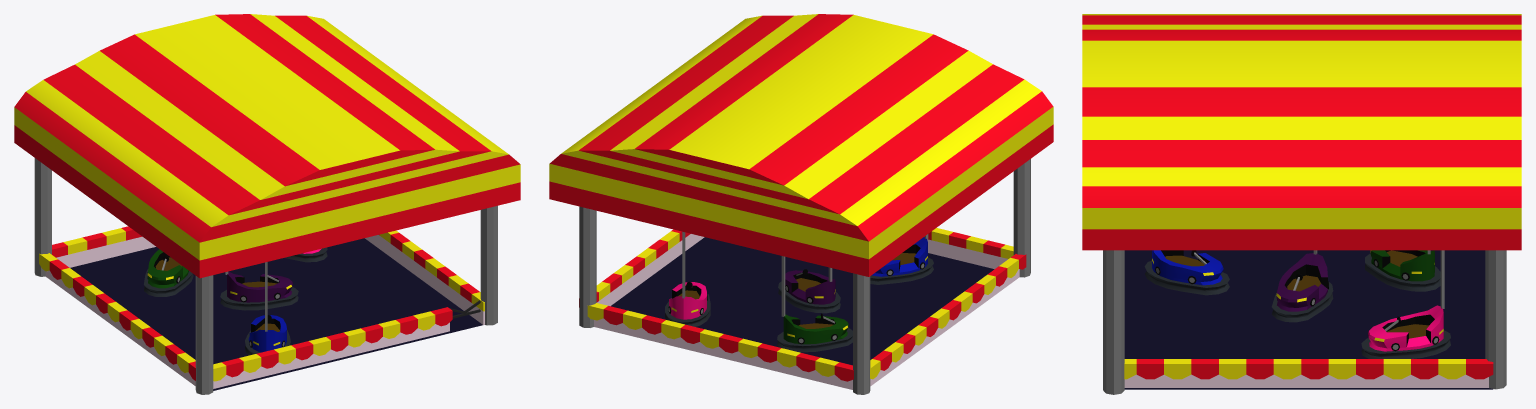
File: CarrinhoBateBate.fbx
The picture shows the model from 3 angles, left to right: view 1: azimuth 30°, elevation 25°; view 2: azimuth 150°, elevation 25°; view 3: azimuth 270°, elevation 25°; orthographic projection. The views are drawn at different scales.
Parts seen in each view (by area): view 1: CarrinhoBateBate, CarrinhoRoxo, CarrinhoVerde, CarrinhoAzul; view 2: CarrinhoBateBate, CarrinhoVerde, CarrinhoRoxo, CarrinhoRosa, CarrinhoAzul; view 3: CarrinhoBateBate, CarrinhoRosa, CarrinhoRoxo, CarrinhoAzul, CarrinhoVerde.
Boxes of the visible parts, left/top/right/bottom form: CarrinhoBateBate: left=14, top=14, right=520, bottom=394; CarrinhoRoxo: left=220, top=271, right=298, bottom=310; CarrinhoVerde: left=144, top=249, right=193, bottom=296; CarrinhoAzul: left=245, top=262, right=290, bottom=355; CarrinhoBateBate: left=549, top=14, right=1053, bottom=394; CarrinhoVerde: left=777, top=256, right=852, bottom=352; CarrinhoRoxo: left=778, top=267, right=840, bottom=313; CarrinhoRosa: left=665, top=231, right=710, bottom=326; CarrinhoAzul: left=870, top=234, right=933, bottom=284; CarrinhoBateBate: left=1082, top=14, right=1521, bottom=394; CarrinhoRosa: left=1361, top=250, right=1450, bottom=358; CarrinhoRoxo: left=1271, top=250, right=1333, bottom=322; CarrinhoAzul: left=1144, top=250, right=1229, bottom=295; CarrinhoVerde: left=1365, top=250, right=1440, bottom=291.
Size of the model in its own units: 1606 by 985 by 1606.
Materials: 1 (1 with a texture image).
